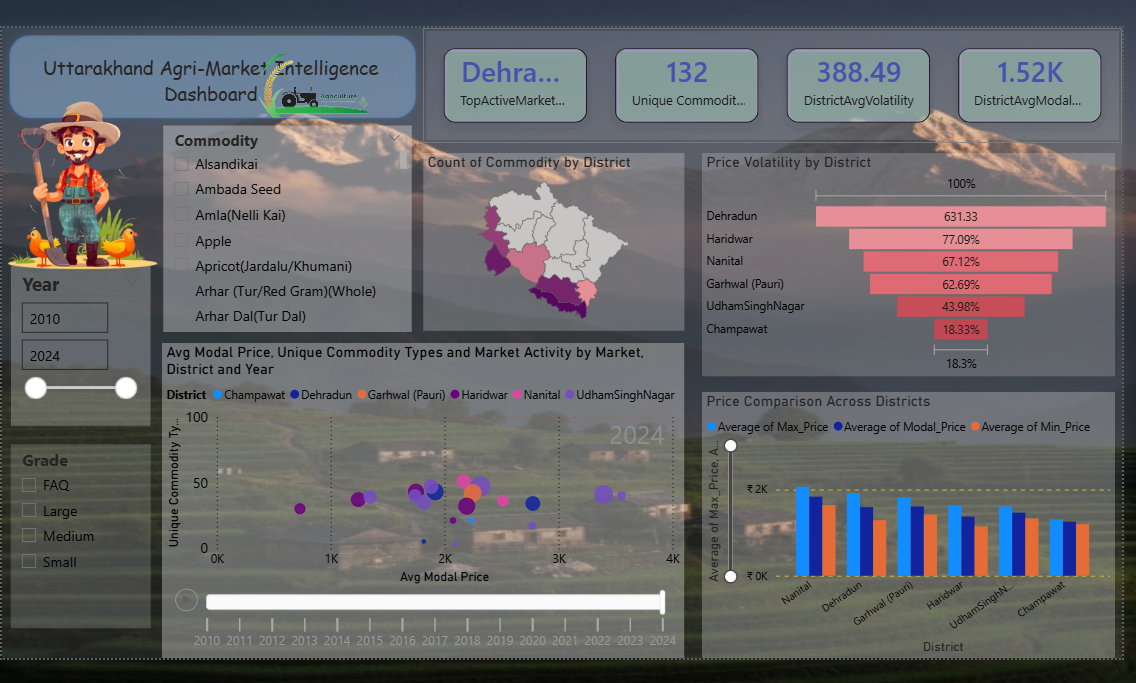

Layout of this report page (visuals, bound fields, positions):
{"tool":"powerbi","page":{"name":"Page 7","canvas":[1280,720],"ordinal":8},"visuals":[{"type":"clusteredColumnChart","title":"Price Comparison Across Districts ","fields":{"Category":["Uttarakhand.District"],"Y":["Avg(Uttarakhand.Max_Price)","Avg(Uttarakhand.Modal_Price)","Avg(Uttarakhand.Min_Price)"]},"box":[800,415,471.7,305],"z":0},{"type":"funnel","fields":{"Category":["Uttarakhand.District"],"Y":["Uttarakhand.Price Volatility"]},"box":[800,143.3,471.7,255],"z":1000},{"type":"scatterChart","fields":{"X":["Uttarakhand.Avg Modal Price"],"Y":["Uttarakhand.Unique Commodity Types"],"Size":["Uttarakhand.Market Activity"],"Category":["Uttarakhand.Market"],"Series":["Uttarakhand.District"],"Play":["Uttarakhand.Year"]},"box":[183.3,360,596.7,360],"z":2000},{"type":"cardVisual","fields":{"Data":["Uttarakhand.TopActiveMarketName","Uttarakhand.Unique Commodity Types","Uttarakhand.DistrictAvgVolatility","Uttarakhand.DistrictAvgModalPrice"]},"box":[481.4,0,798.6,131.4],"z":3000},{"type":"slicer","fields":{"Values":["Uttarakhand.Grade"]},"box":[10,475,160,210],"z":4000},{"type":"shapeMap","fields":{"Category":["Uttarakhand.District"],"Value":["Count(Uttarakhand.Commodity)"]},"box":[481.7,143.3,298.3,203.3],"z":5000},{"type":"slicer","fields":{"Values":["Uttarakhand.Commodity"]},"box":[183.8,111.2,283.8,236.2],"z":6000},{"type":"slicer","fields":{"Values":["Uttarakhand.Year"]},"box":[10,271.7,160,183.3],"z":7000},{"type":"shape","box":[0,0,481.4,111.4],"z":8000},{"type":"textbox","box":[37.1,8.6,402.9,90],"z":9000},{"type":"image","box":[0,8.6,182.9,337.1],"z":10000},{"type":"image","box":[288.8,30,133.8,72.5],"z":11000}]}

Visuals, with their boxes on the page's 1280x720 design canvas (x1, y1, x2, y2). These are canvas units, not pixel positions in the 1136x683 screenshot, which may show the page scaled, cropped or inside an application window:
"Price Comparison Across Districts " clusteredColumnChart: [x1=800, y1=415, x2=1272, y2=720]
funnel - Uttarakhand.District x Uttarakhand.Price Volatility: [x1=800, y1=143, x2=1272, y2=398]
scatterChart - Uttarakhand.Avg Modal Price x Uttarakhand.Unique Commodity Types: [x1=183, y1=360, x2=780, y2=720]
cardVisual - Uttarakhand.TopActiveMarketName x Uttarakhand.Unique Commodity Types: [x1=481, y1=0, x2=1280, y2=131]
slicer - Uttarakhand.Grade: [x1=10, y1=475, x2=170, y2=685]
shapeMap - Uttarakhand.District x Count(Uttarakhand.Commodity): [x1=482, y1=143, x2=780, y2=347]
slicer - Uttarakhand.Commodity: [x1=184, y1=111, x2=468, y2=347]
slicer - Uttarakhand.Year: [x1=10, y1=272, x2=170, y2=455]
shape: [x1=0, y1=0, x2=481, y2=111]
textbox: [x1=37, y1=9, x2=440, y2=99]
image: [x1=0, y1=9, x2=183, y2=346]
image: [x1=289, y1=30, x2=423, y2=102]
